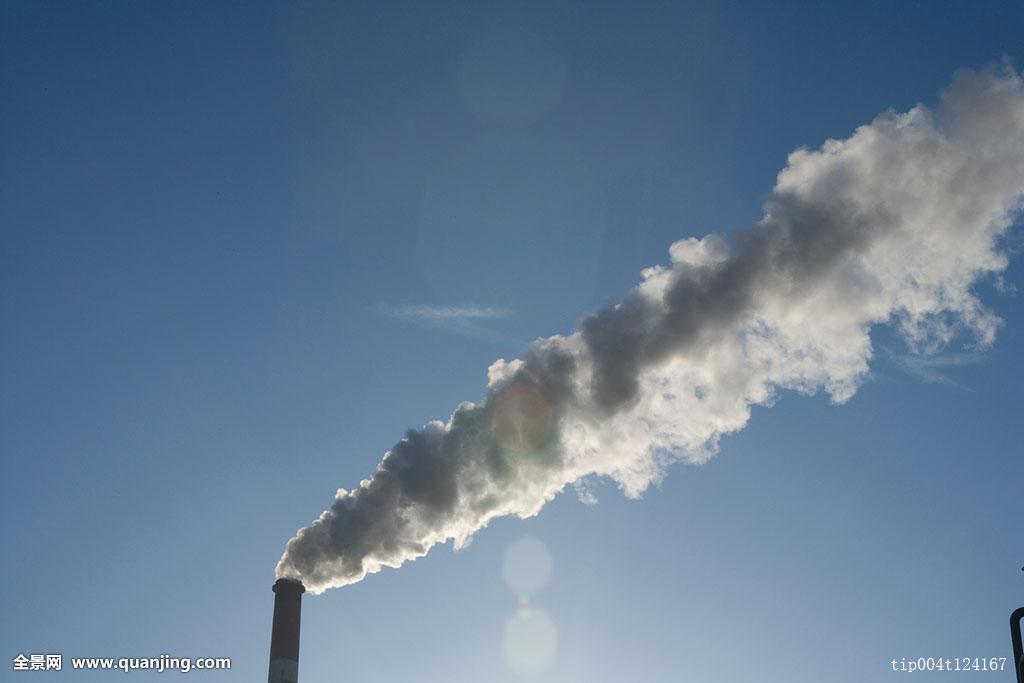dust: (257, 326, 657, 619)
